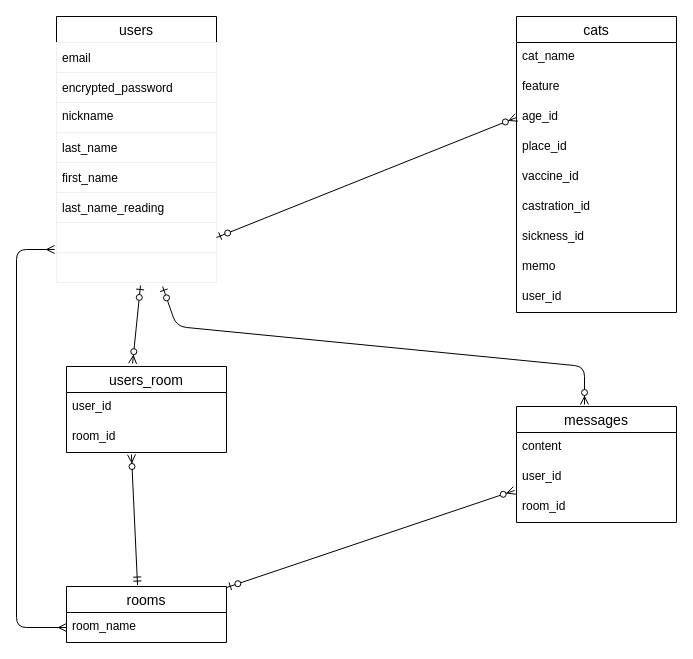
The diagram is 693 pixels wide and 659 high, and some of its shapes have lost their labels. The shapes that lost their labels are listed below. From the top down, each one's centre as x and y in pixels, then its label:
the point at 136,237: first_name_reading
the point at 136,267: birthday
